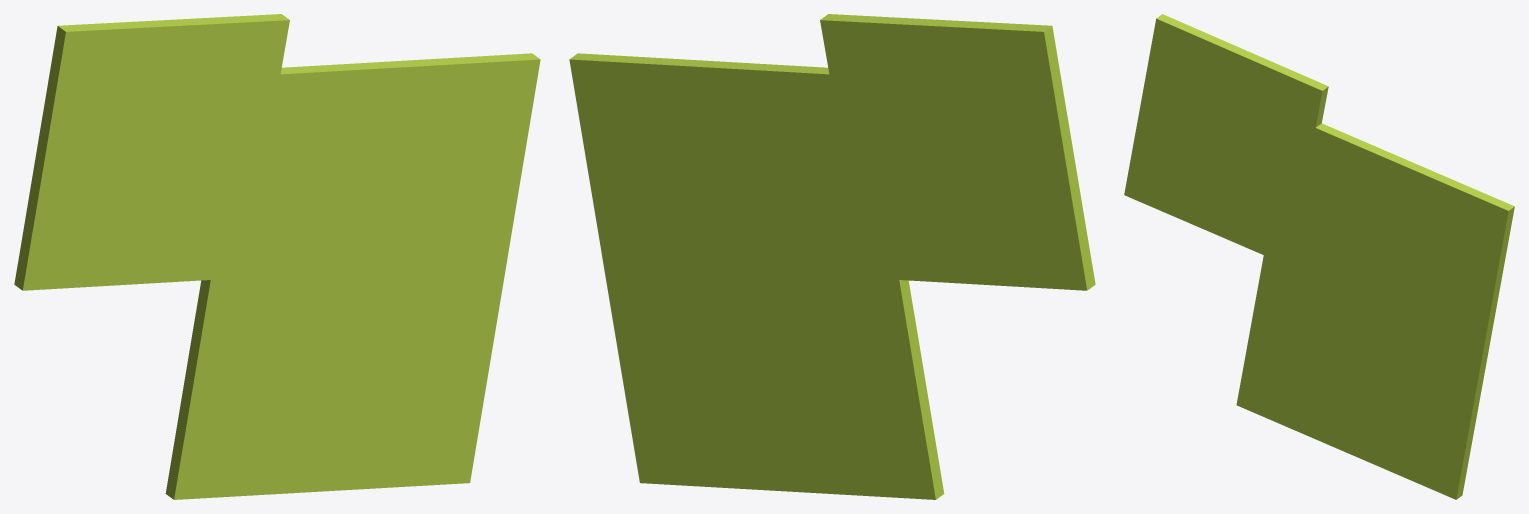
The picture shows the model from 3 angles, left to right: view 1: azimuth 30°, elevation 25°; view 2: azimuth 150°, elevation 25°; view 3: azimuth 330°, elevation 25°; orthographic projection. The views are drawn at different scales.
Visible parts, largest first — view 1: osm-way27917482-F1; view 2: osm-way27917482-F1; view 3: osm-way27917482-F1.
Part boxes in pixels (left/top/right/bottom): osm-way27917482-F1: left=14, top=14, right=540, bottom=499; osm-way27917482-F1: left=569, top=14, right=1095, bottom=499; osm-way27917482-F1: left=1124, top=14, right=1514, bottom=499.
Size of the model in its own units: 5.34 by 5.42 by 0.15.
